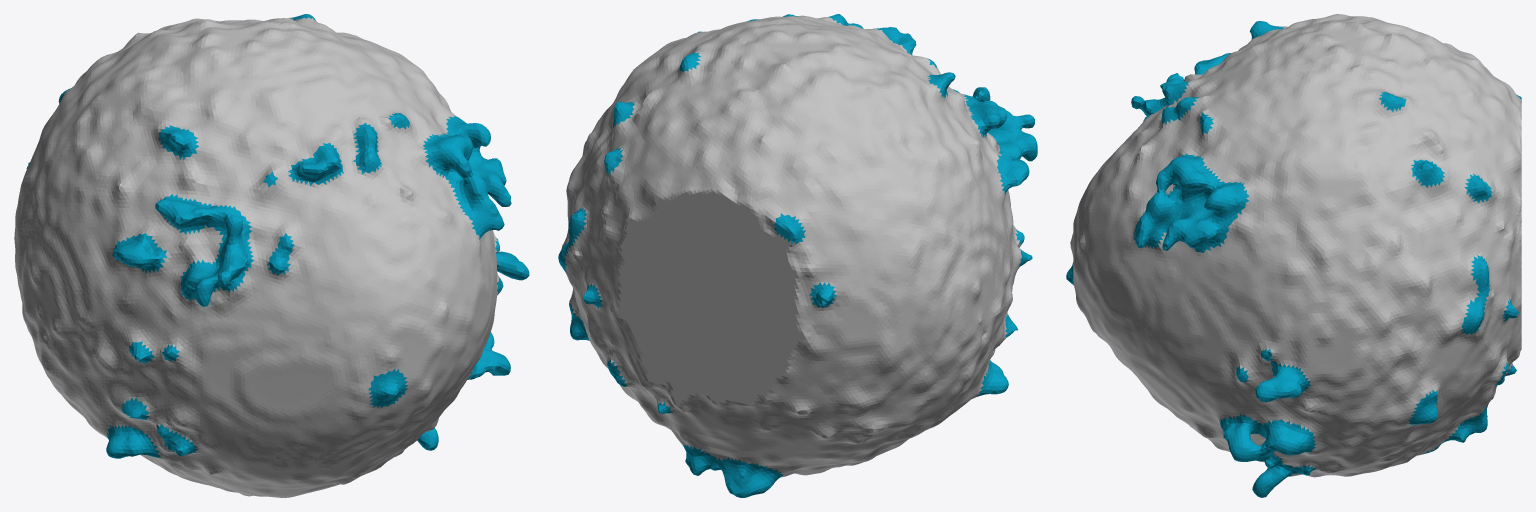
3 renders of one model, left to right at view 1: azimuth 30°, elevation 25°; view 2: azimuth 150°, elevation 25°; view 3: azimuth 270°, elevation 25°, orthographic. The views are drawn at different scales.
Bounding box in the file's own units: 94.55 × 89.8 × 89.74.
